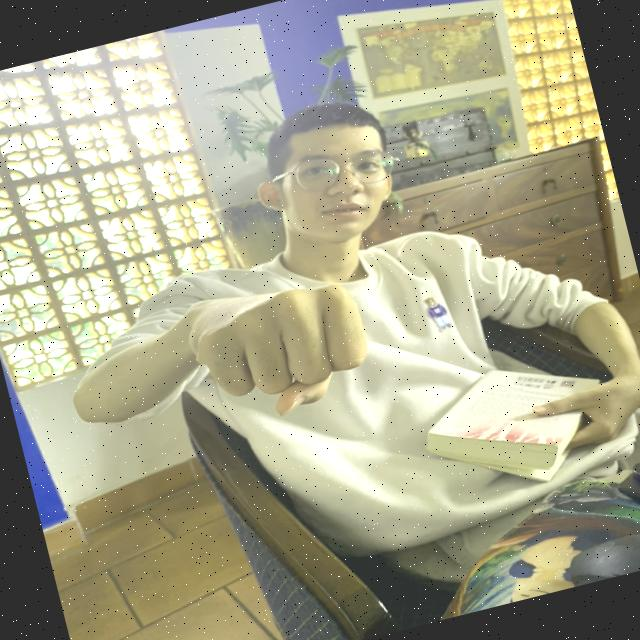yes: (163, 235, 402, 460)
